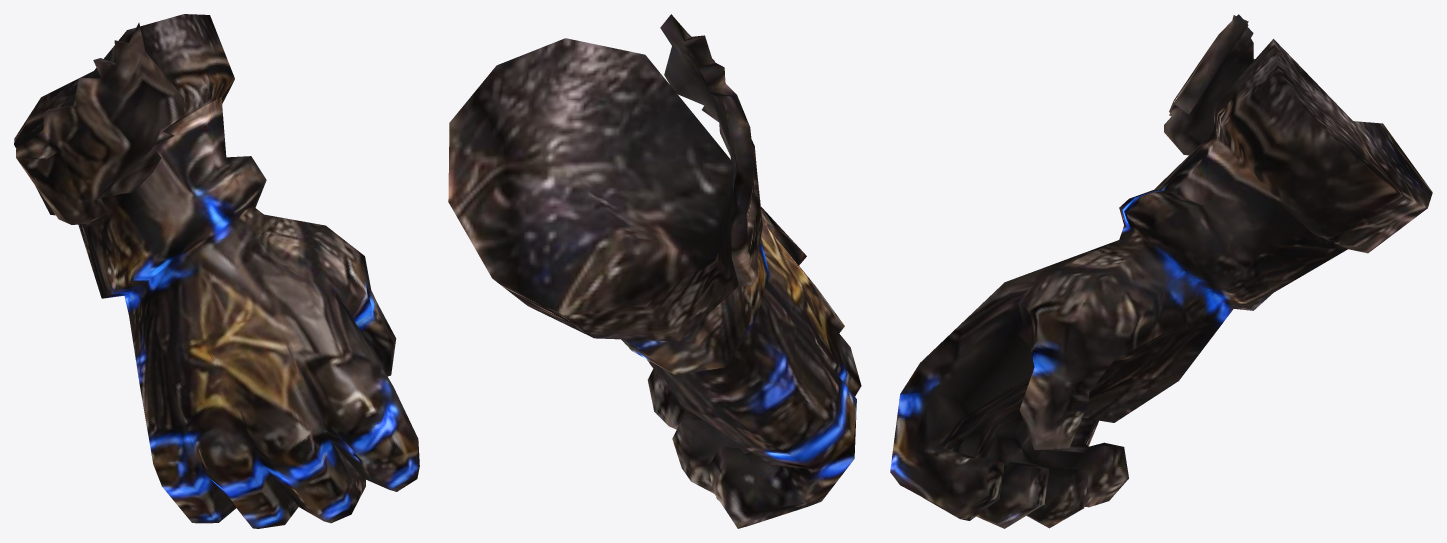
The picture shows the model from 3 angles, left to right: view 1: azimuth 30°, elevation 25°; view 2: azimuth 150°, elevation 25°; view 3: azimuth 270°, elevation 25°; orthographic projection. The views are drawn at different scales.
Parts seen in each view (by area): view 1: LA-01; view 2: LA-01; view 3: LA-01.
Boxes of the visible parts, left/top/right/bottom form: LA-01: left=14, top=14, right=419, bottom=528; LA-01: left=448, top=14, right=861, bottom=528; LA-01: left=890, top=14, right=1432, bottom=528.
Bounding box in the file's own units: 0.1234 × 0.2 × 0.2037.
Materials: 1 (1 with a texture image).
